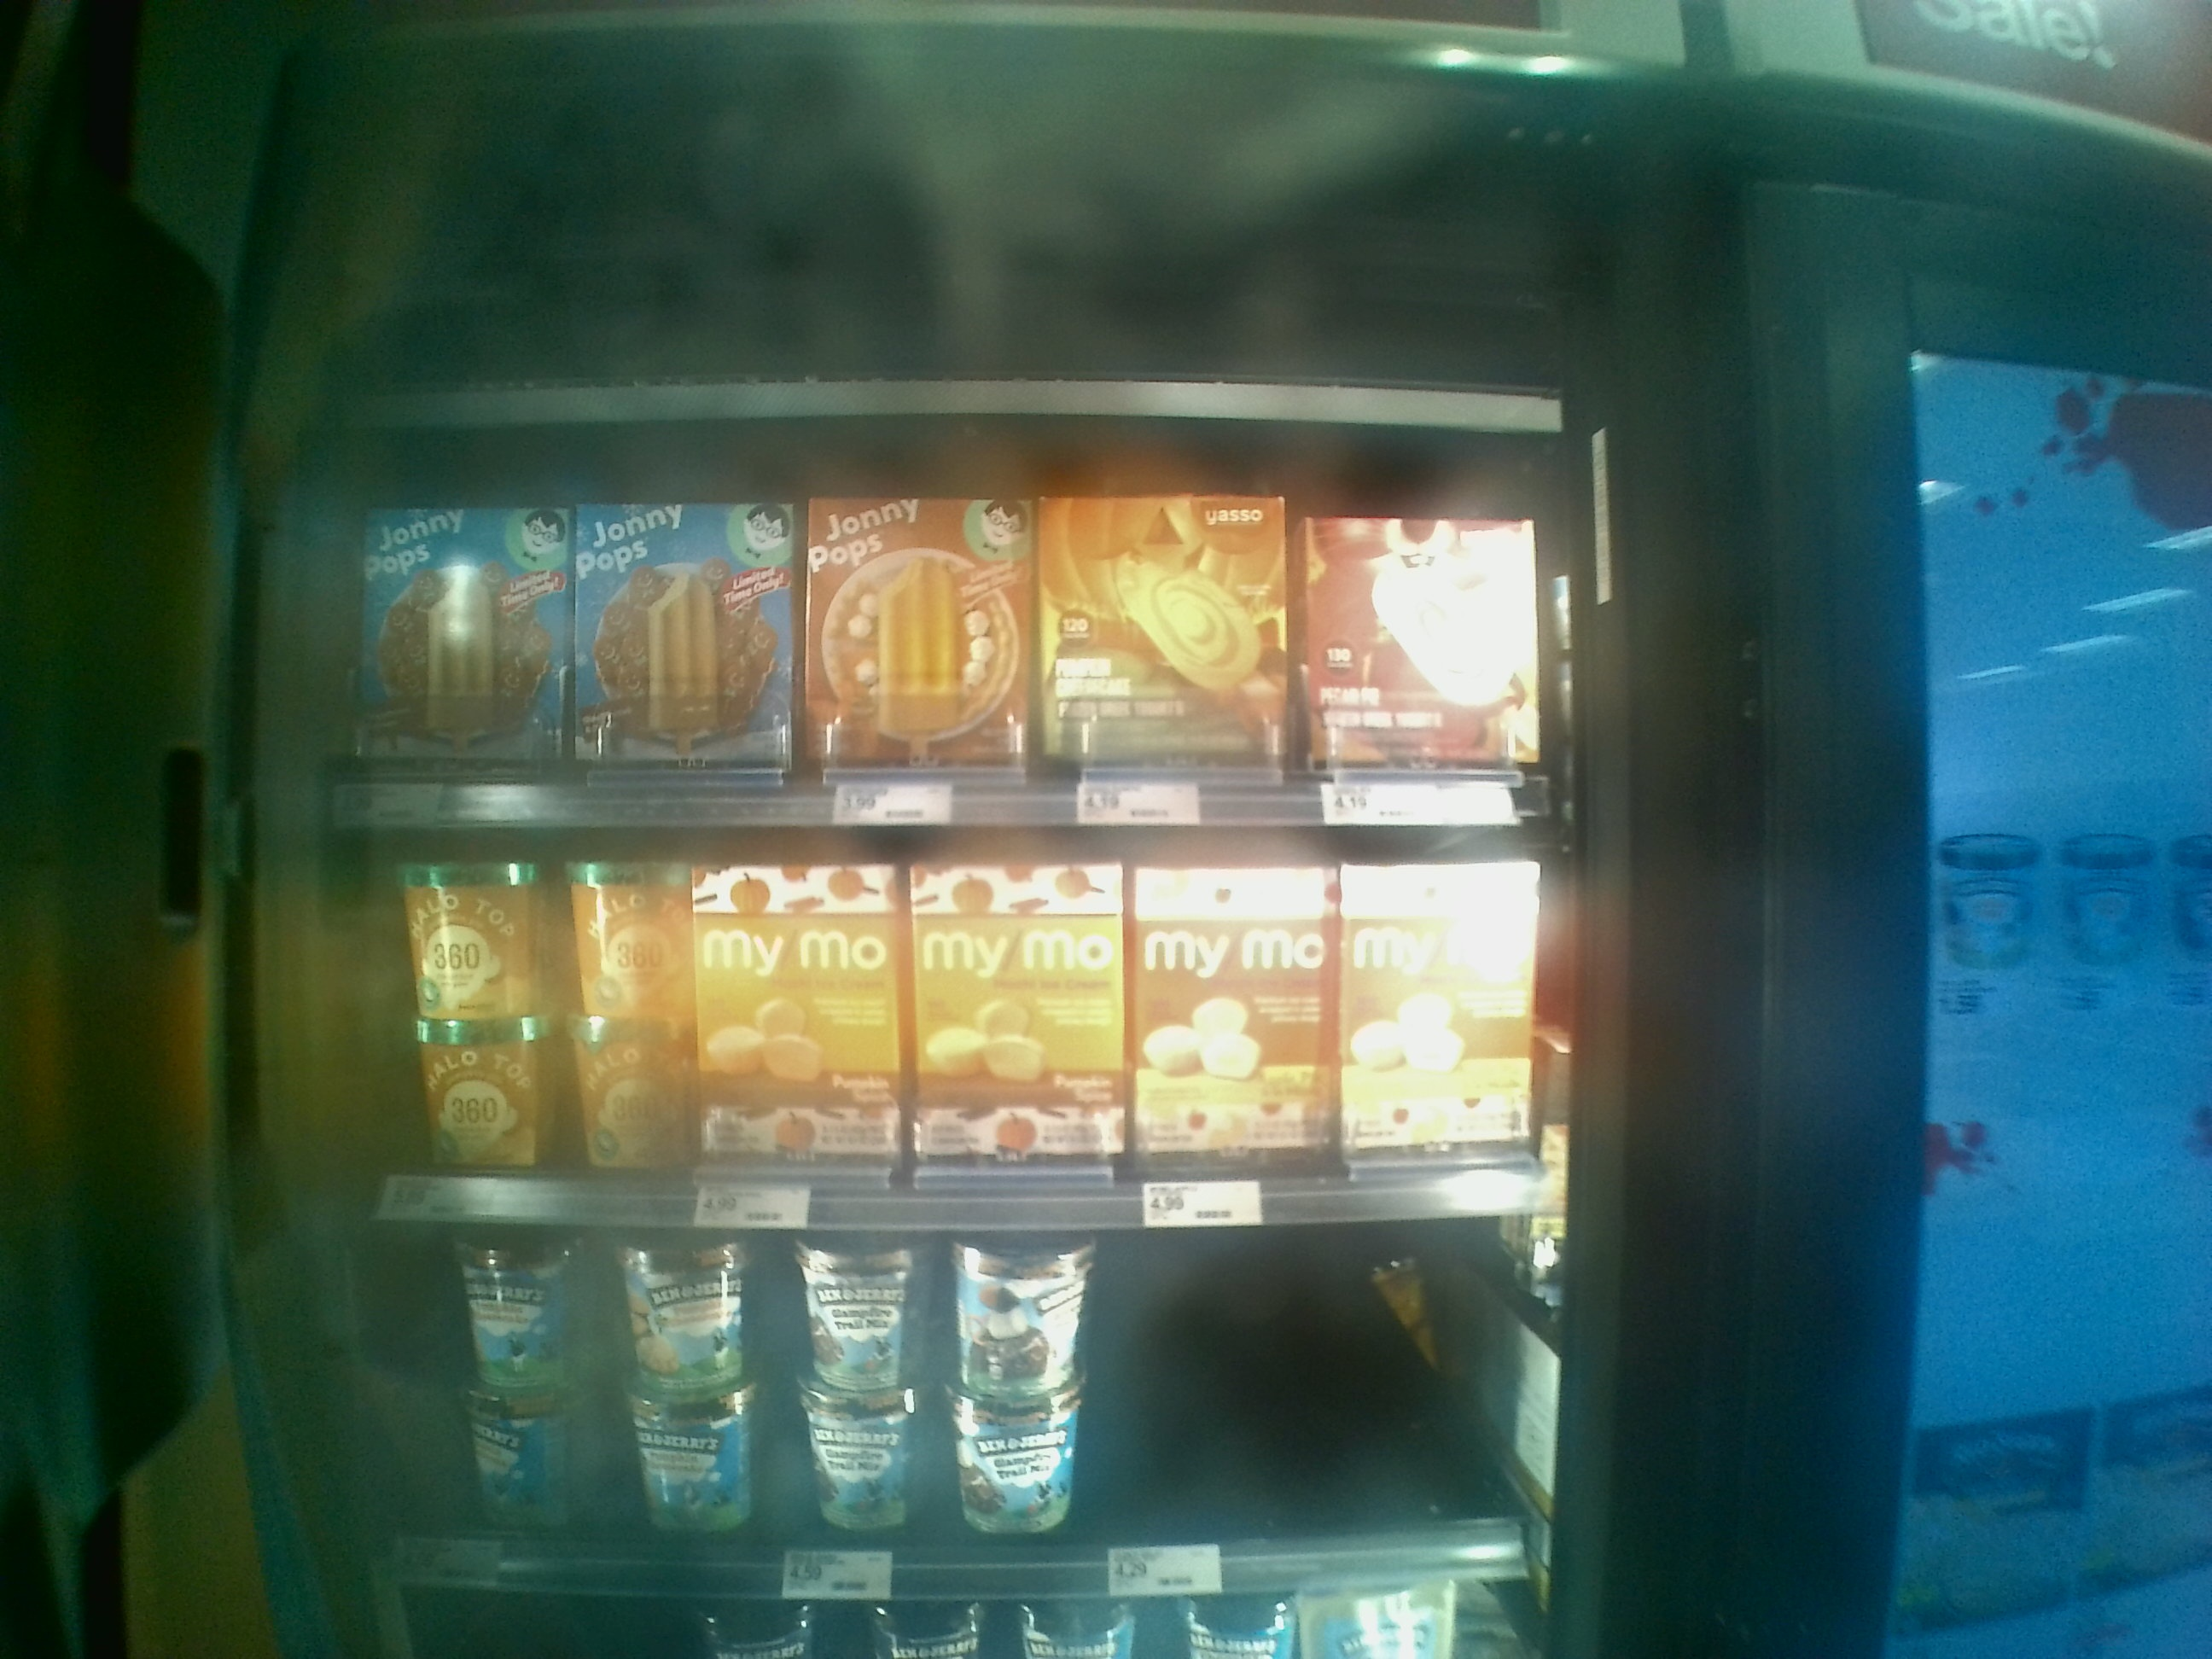shelf: (275, 807, 1566, 1225), (298, 418, 1576, 838), (308, 1213, 1548, 1588)
